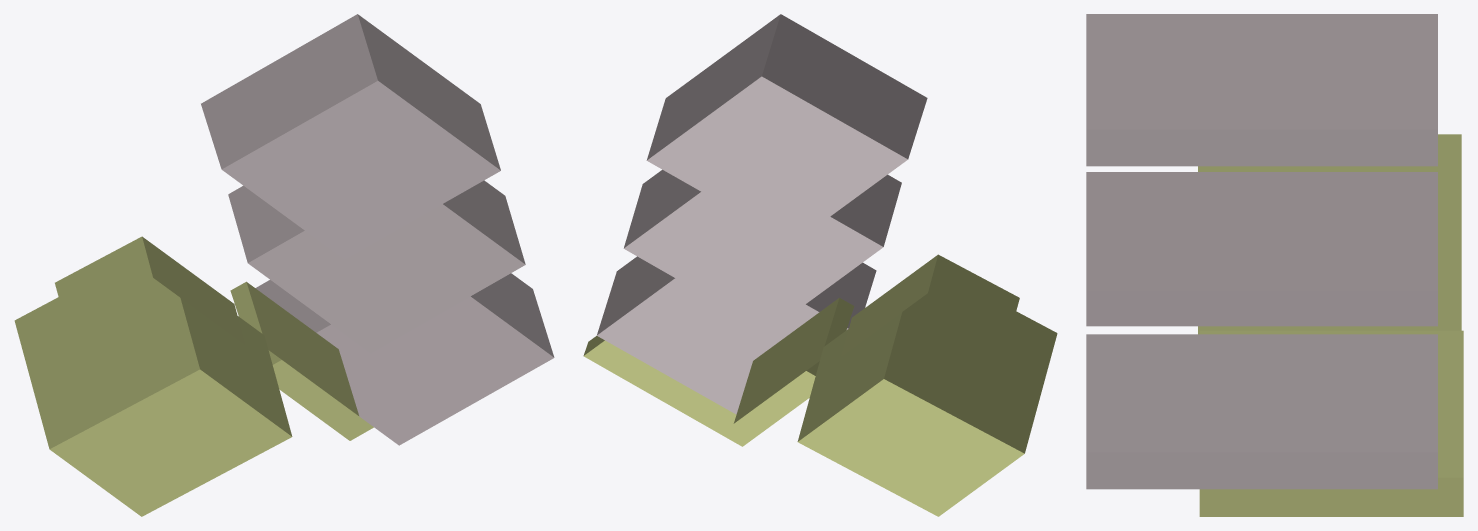
3 renders of one model, left to right at view 1: azimuth 30°, elevation 25°; view 2: azimuth 150°, elevation 25°; view 3: azimuth 270°, elevation 25°, orthographic. The views are drawn at different scales.
Parts seen in each view (by area): view 1: 0_1_3_2_2_2_2_0_0_2; view 2: 0_1_3_2_2_2_2_0_0_2; view 3: 0_1_3_2_2_2_2_0_0_2.
Boxes of the visible parts, x1=… form: 0_1_3_2_2_2_2_0_0_2: x1=14, y1=14, x2=554, y2=516; 0_1_3_2_2_2_2_0_0_2: x1=583, y1=14, x2=1057, y2=516; 0_1_3_2_2_2_2_0_0_2: x1=1086, y1=14, x2=1463, y2=516.
Bounding box in the file's own units: 23.3 × 19.81 × 12.87.
